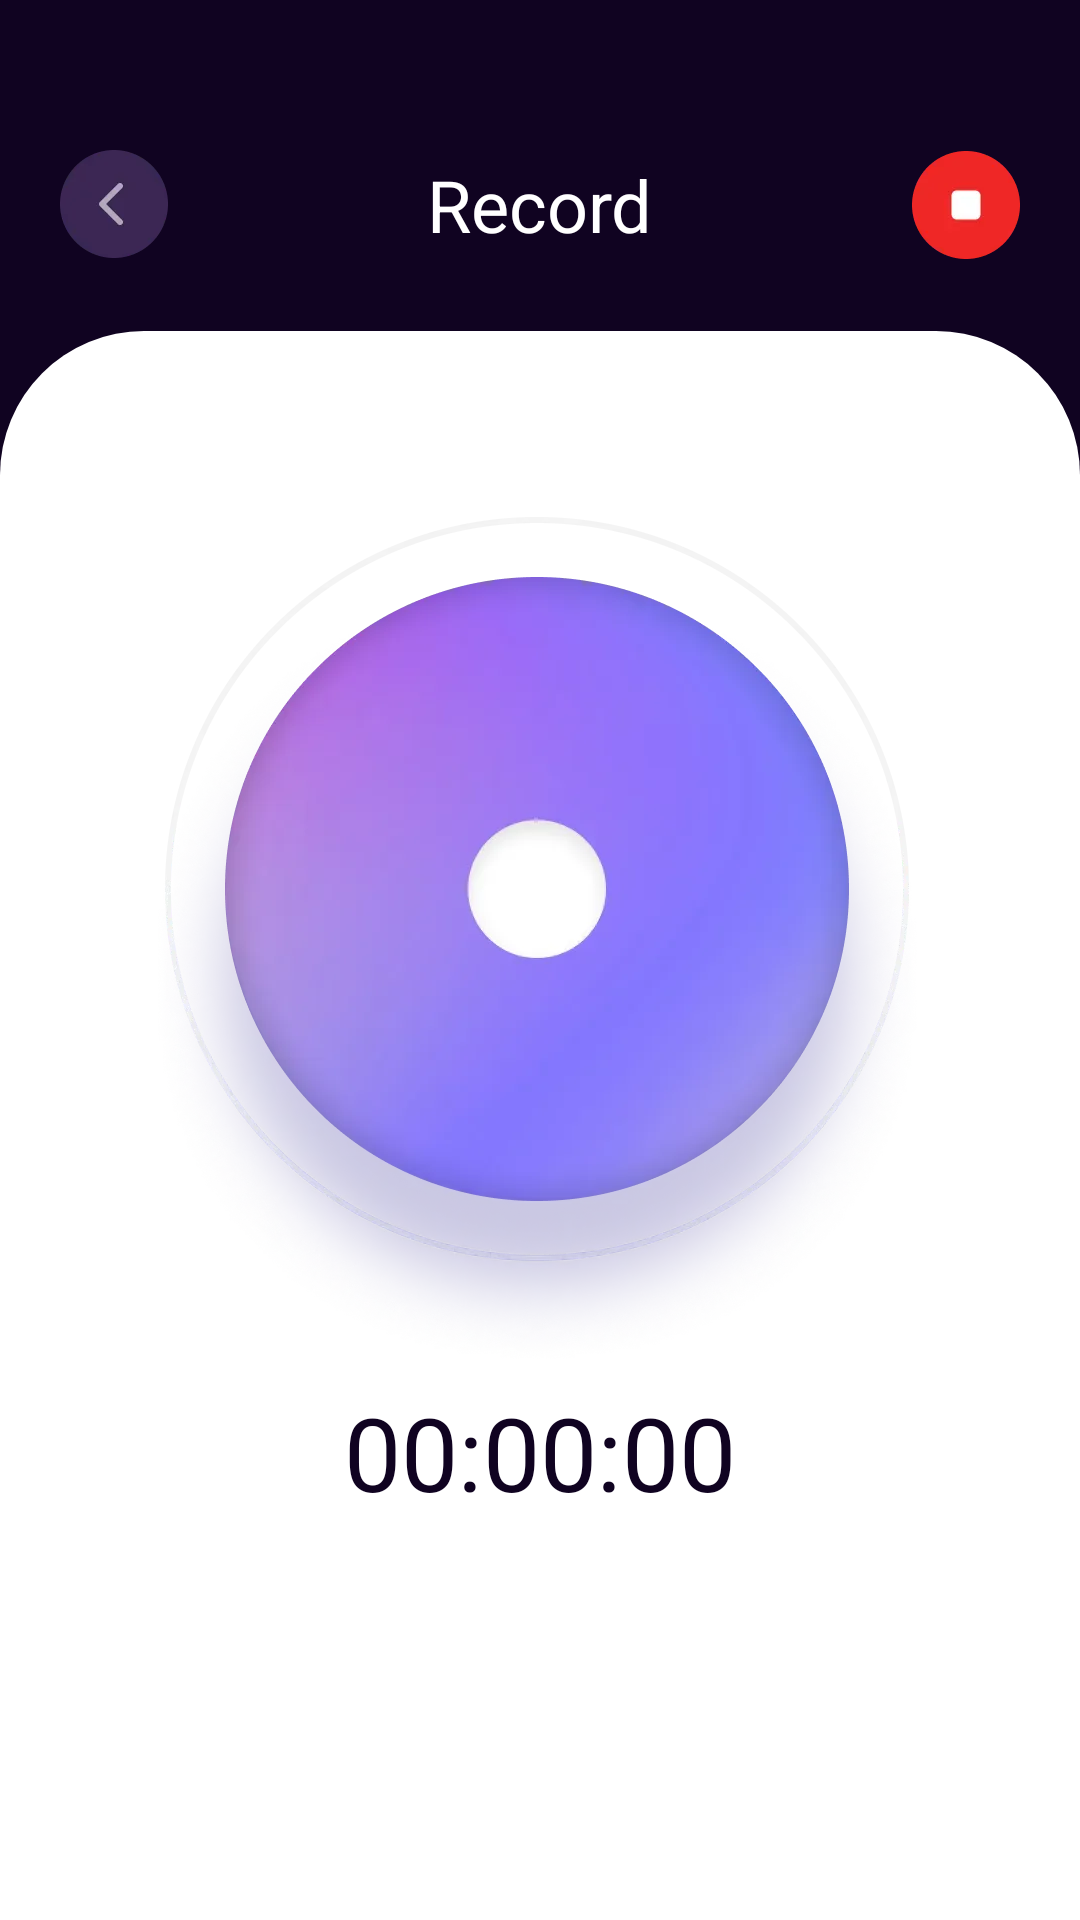

Icon click points for this 1080 × 1920 phone screenshot, format (x=x, y=y):
back: (x=114, y=204)
stop: (x=966, y=205)
